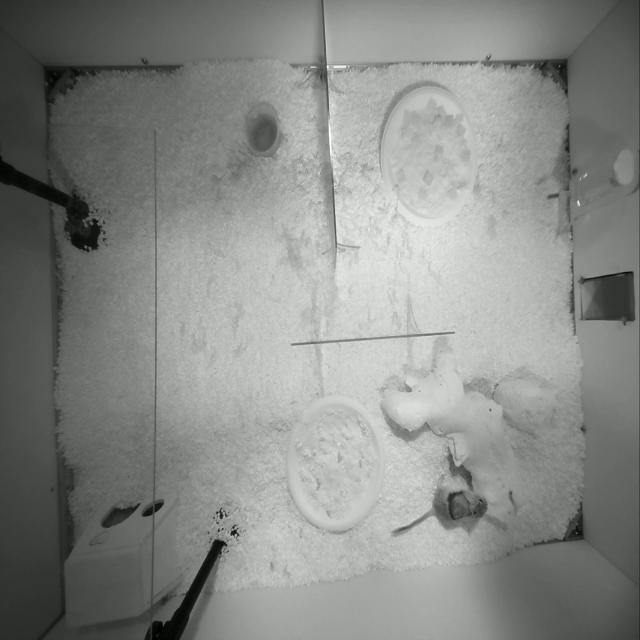adult_front: (392, 476, 487, 534)
